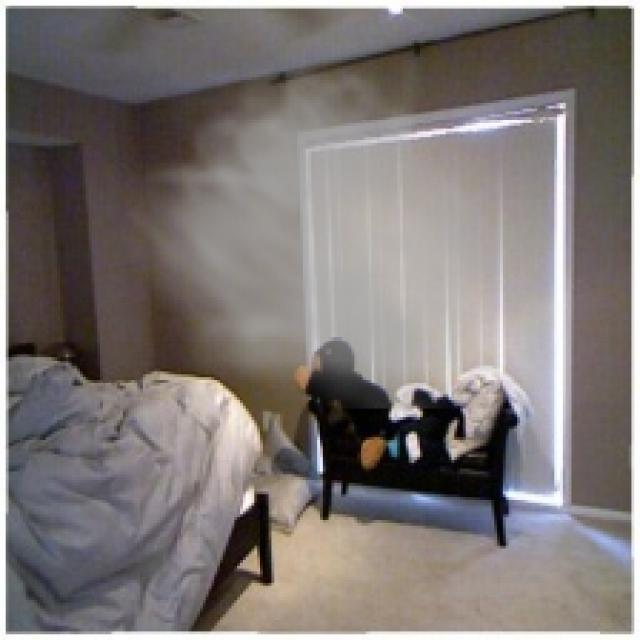Smoke: (111, 22, 523, 408)
